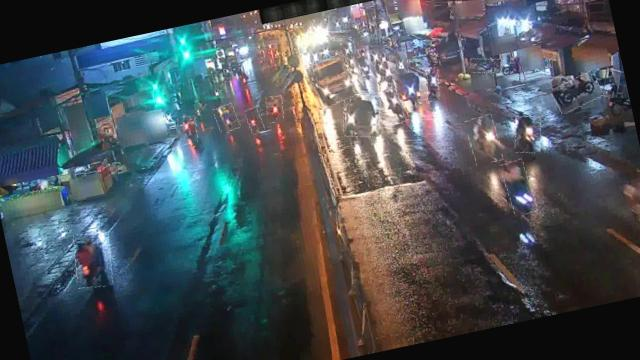Bike: (69, 229, 118, 291), (550, 72, 604, 113), (500, 158, 538, 216), (466, 114, 504, 166), (510, 113, 546, 155), (380, 85, 408, 125), (213, 102, 240, 134), (468, 54, 502, 76), (422, 66, 442, 102), (177, 115, 200, 146), (264, 94, 286, 124), (244, 106, 264, 134), (358, 53, 373, 78), (381, 60, 395, 84), (394, 52, 409, 74)
Car: (338, 90, 386, 142)
Truck: (304, 53, 361, 110)
